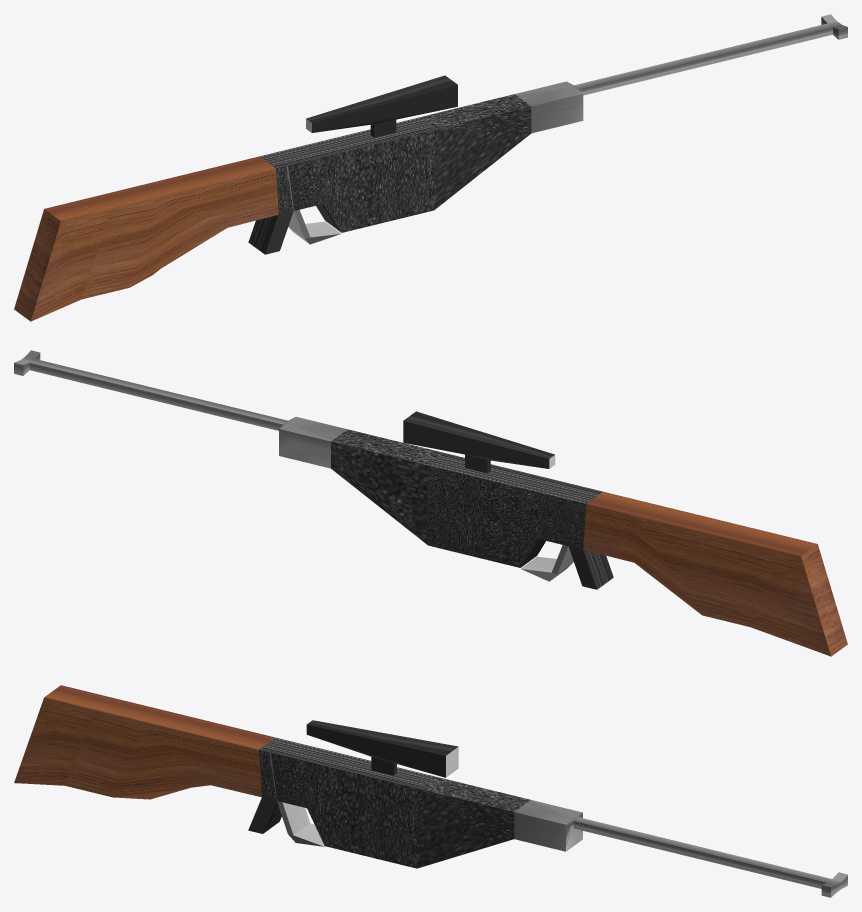
File: sniper.glb
3 renders of one model, top to bottom at view 1: azimuth 30°, elevation 25°; view 2: azimuth 150°, elevation 25°; view 3: azimuth 330°, elevation 25°, orthographic.
Visible parts, largest first — view 1: SniperRifle; view 2: SniperRifle; view 3: SniperRifle.
Boxes of the visible parts, bbox=[...] form: SniperRifle: bbox=[14, 14, 847, 321]; SniperRifle: bbox=[14, 350, 847, 656]; SniperRifle: bbox=[14, 685, 847, 897].
Bounding box in the file's own units: 9.64 × 1.47 × 0.3712.
1 material, 1 textured.
